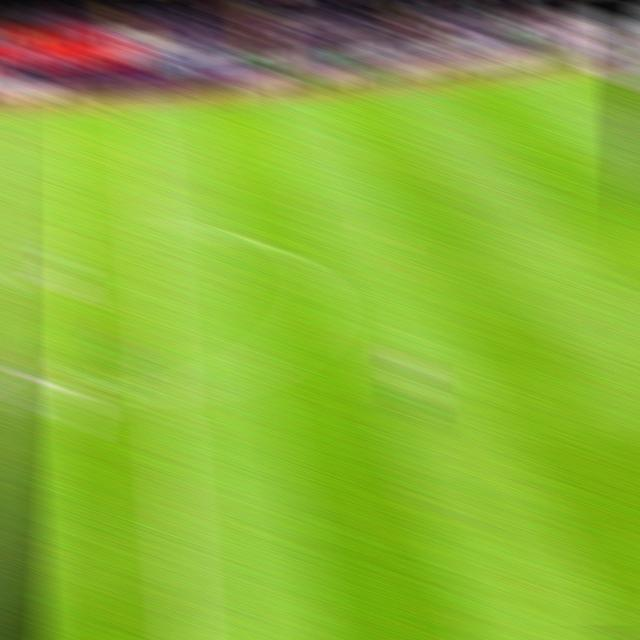bigarea_top_inner: (611, 106, 640, 137)
halfcircle_bottom: (140, 368, 187, 410)
halfcircle_top: (125, 211, 176, 255)
midline_top_intersection: (120, 88, 159, 121)
